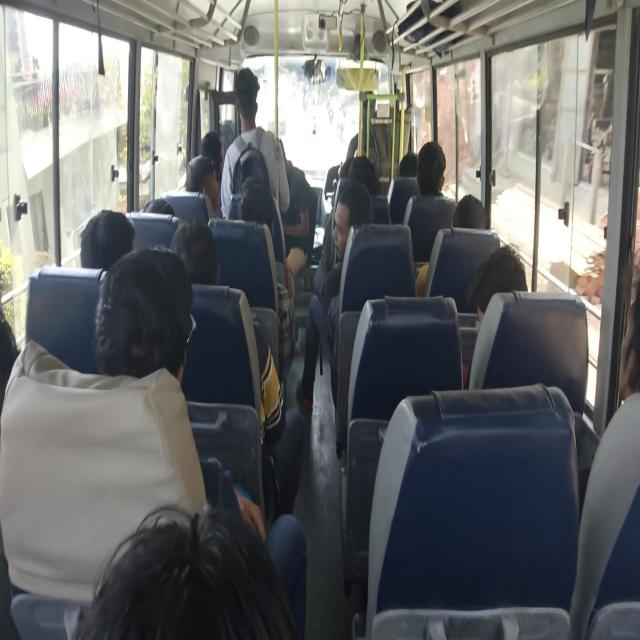person: (88, 479, 340, 640), (90, 282, 192, 402), (278, 133, 323, 278), (466, 236, 542, 321), (604, 272, 640, 420), (329, 189, 382, 258), (447, 198, 508, 254), (92, 201, 134, 266), (182, 242, 229, 299), (340, 156, 380, 208), (184, 151, 220, 196), (418, 138, 442, 194), (236, 78, 265, 124), (0, 301, 19, 370), (144, 190, 177, 220), (402, 144, 423, 186), (200, 128, 218, 161)
